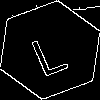L: (25, 25, 70, 78)
